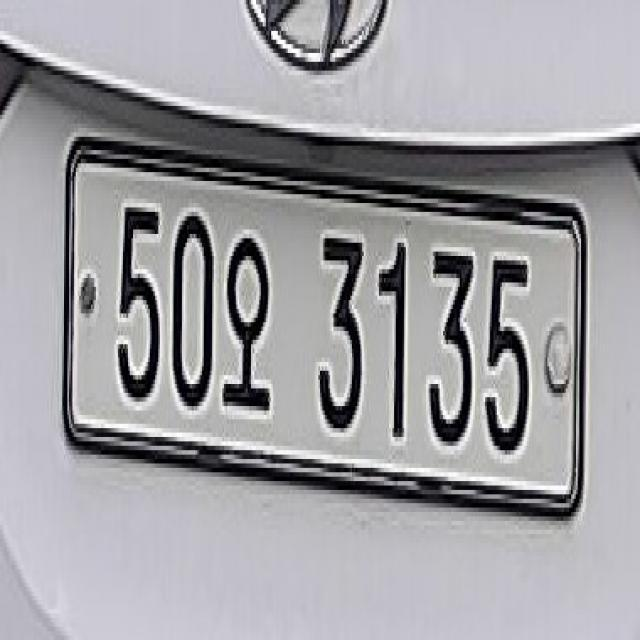0: (170, 204, 217, 420)
1: (376, 228, 415, 458)
3: (308, 219, 368, 446), (429, 230, 476, 466)
5: (112, 187, 164, 410), (482, 254, 534, 473)
license_plate: (64, 149, 588, 532)
o: (220, 218, 276, 434)
